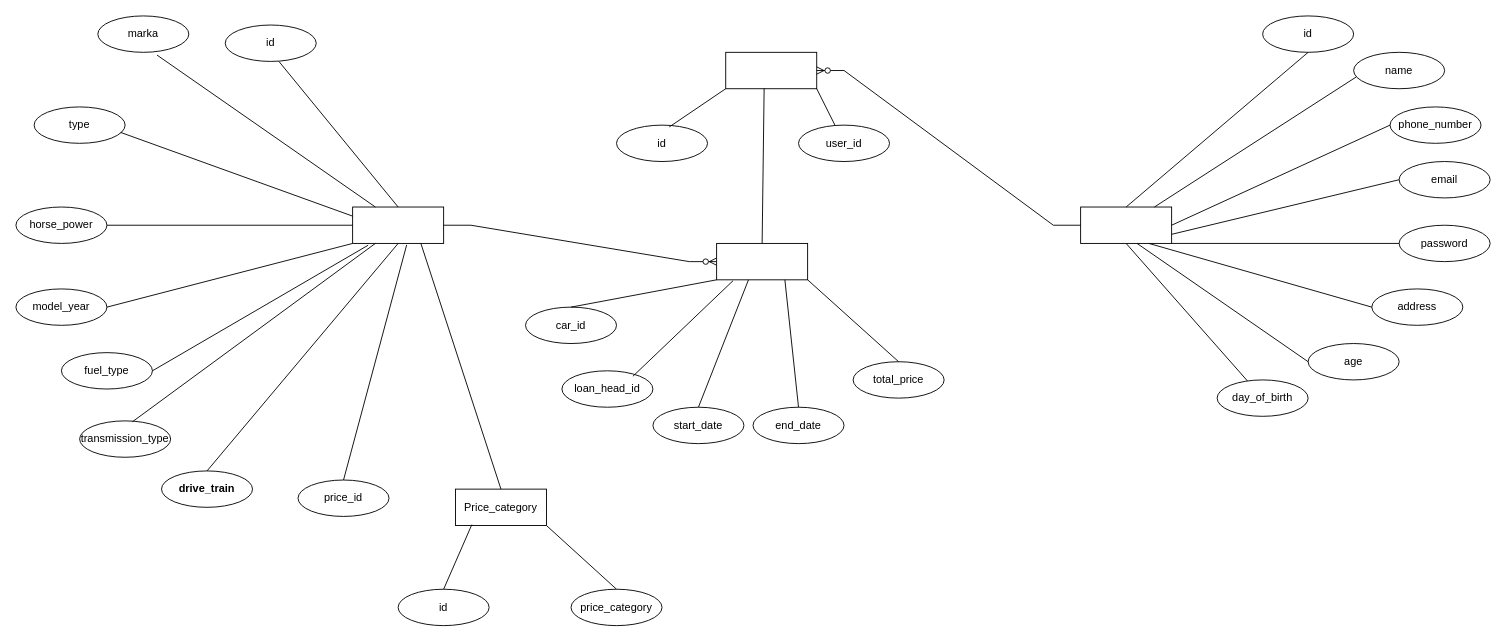
Some shapes in this 1506 by 642 pixel diagram are drawn without their labels. The centre of each missing label's shape, as x and y in pixels:
"Car" belongs at point 398,224.
"Loan_body" belongs at point 762,261.
"Loan_head" belongs at point 771,70.
"User" belongs at point 1126,224.
